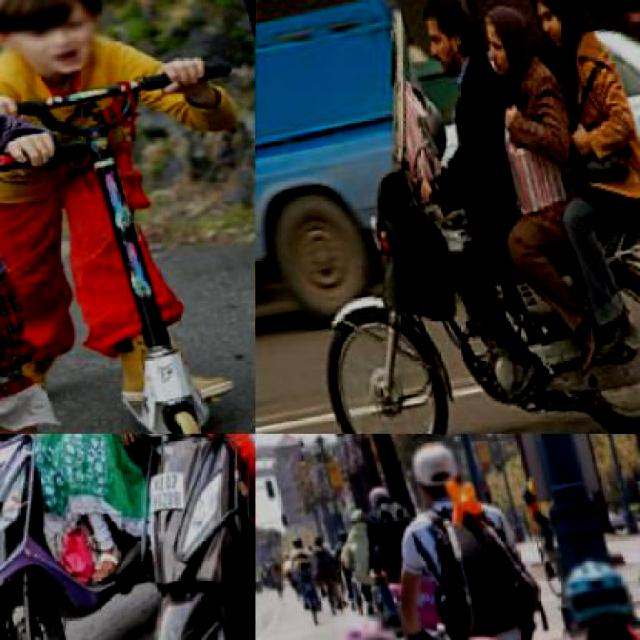With Helmet: (550, 543, 638, 639), (320, 606, 409, 639)
Without Helmet: (0, 0, 123, 85), (469, 0, 543, 78), (409, 0, 481, 78), (400, 434, 472, 508), (526, 0, 593, 55)
